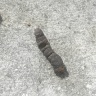Dog: (32, 28, 67, 74)
